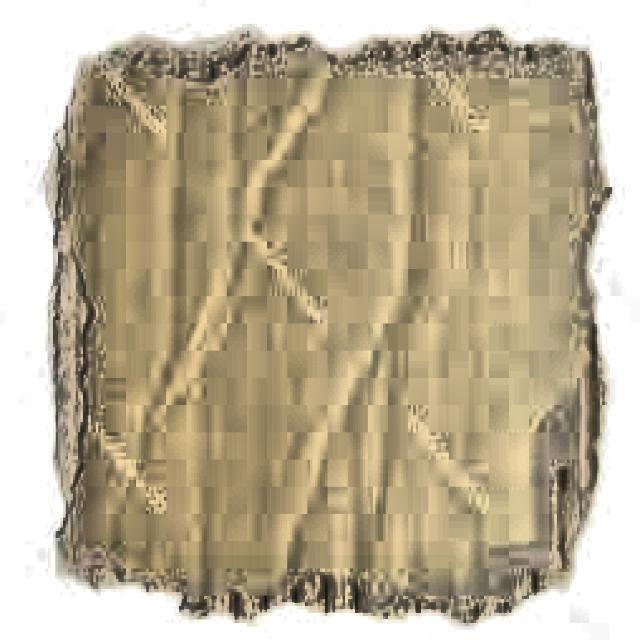cardboard: (43, 20, 615, 623)
